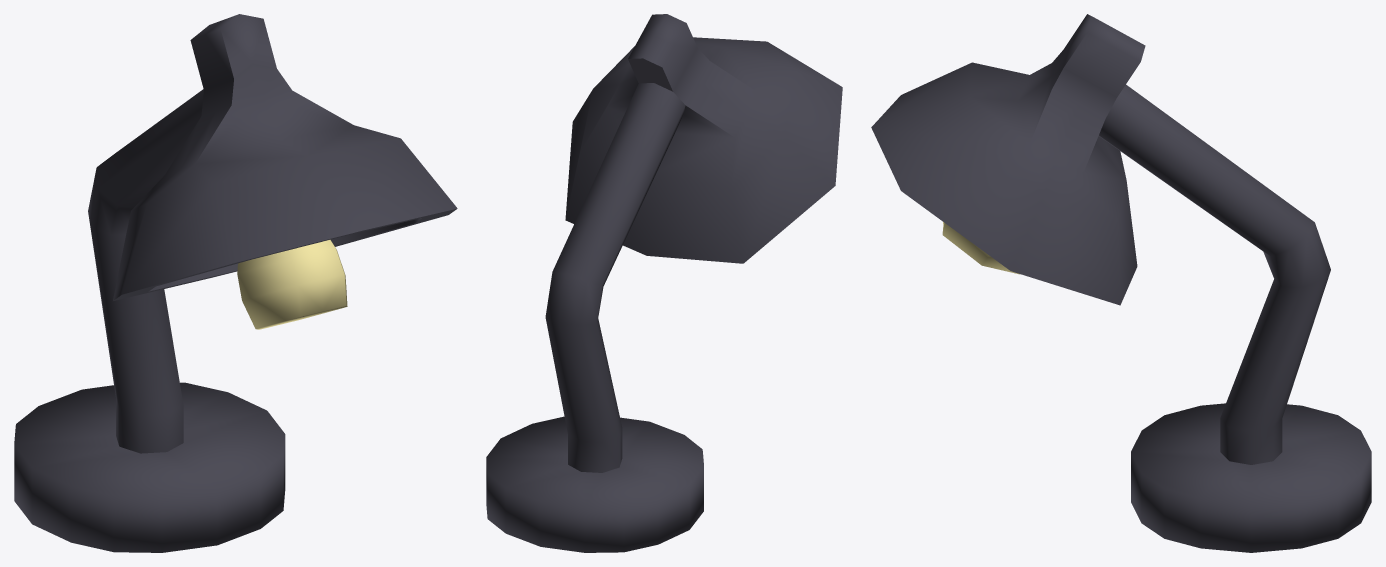
Rendered from Office_Lamp.glb.
3 renders of one model, left to right at view 1: azimuth 30°, elevation 25°; view 2: azimuth 150°, elevation 25°; view 3: azimuth 270°, elevation 25°, orthographic. The views are drawn at different scales.
Visible parts, largest first — view 1: Desk_Lamp; view 2: Desk_Lamp; view 3: Desk_Lamp.
Boxes of the visible parts, box(x1,y1,x2,y2) form: Desk_Lamp: box(14, 14, 457, 552); Desk_Lamp: box(486, 14, 842, 552); Desk_Lamp: box(871, 14, 1371, 552).
Size of the model in its own units: 0.2821 by 0.4514 by 0.4215.
